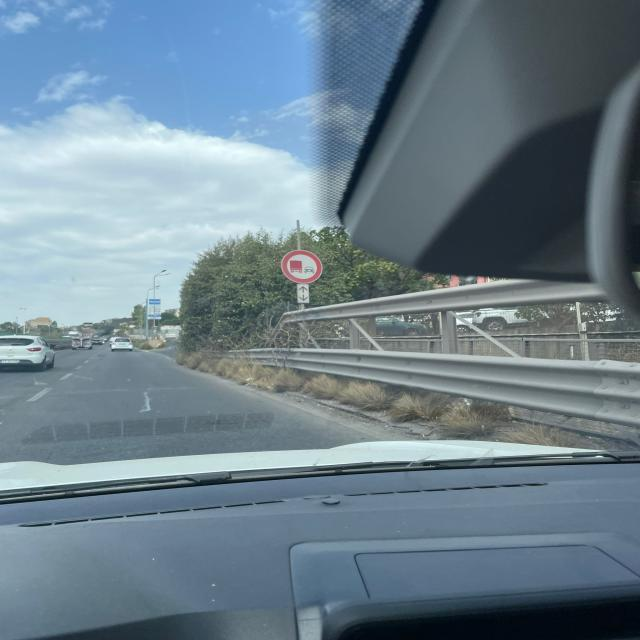forb_overtake_trucks: (281, 250, 323, 285)
